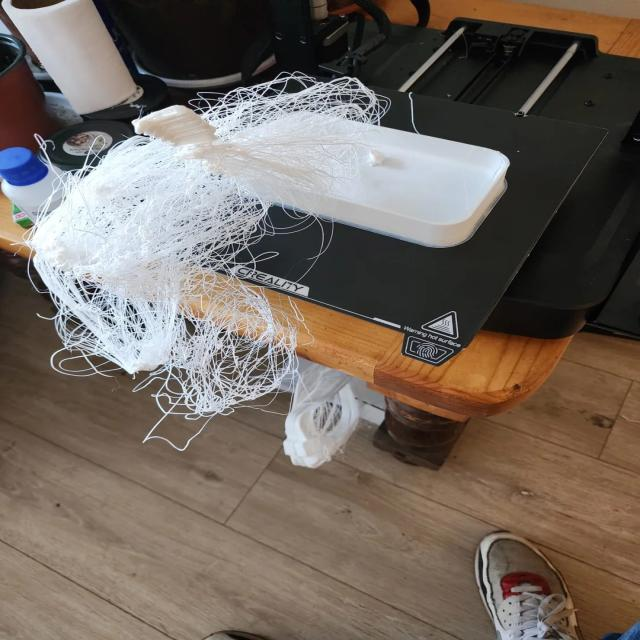Spaghetti: (66, 166, 240, 340), (215, 85, 301, 138), (176, 332, 226, 411), (312, 81, 373, 118)
